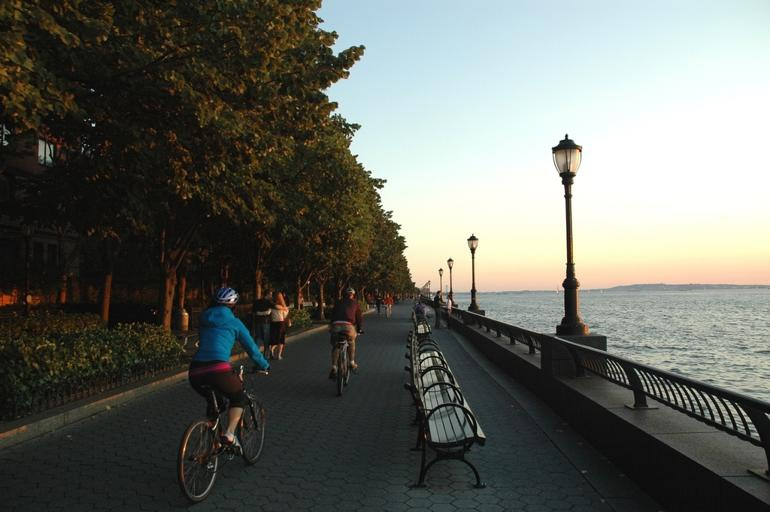non-vehicle: (177, 365, 274, 503), (329, 327, 364, 395), (384, 303, 392, 319)
